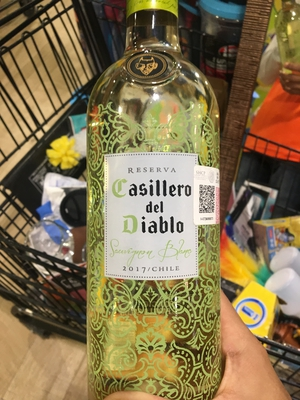casillero del diablo sauvignon blanc: (82, 14, 228, 400)
